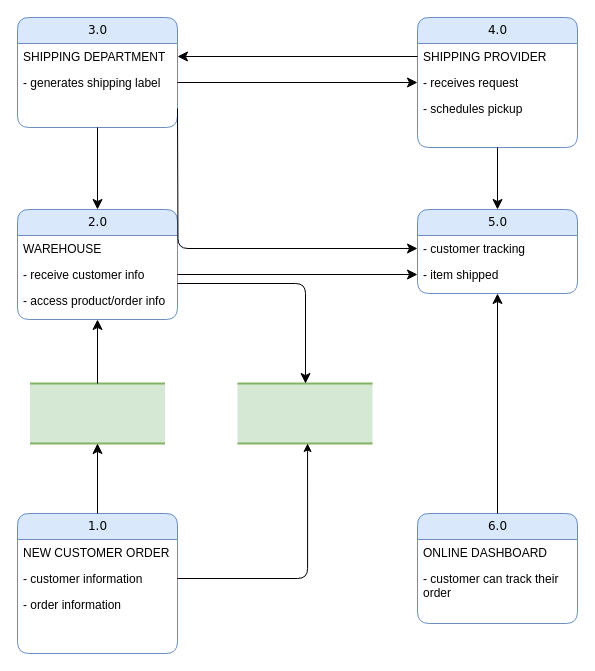
This 595x671 diagram has some shape labels left out. The shapes that lost their labels are listed below. From the top down, each one's box as (x1, y1, x2, y2) in pixels, then its label:
(28, 382, 166, 444): Customer Information Database
(236, 382, 373, 444): Order Information Database
